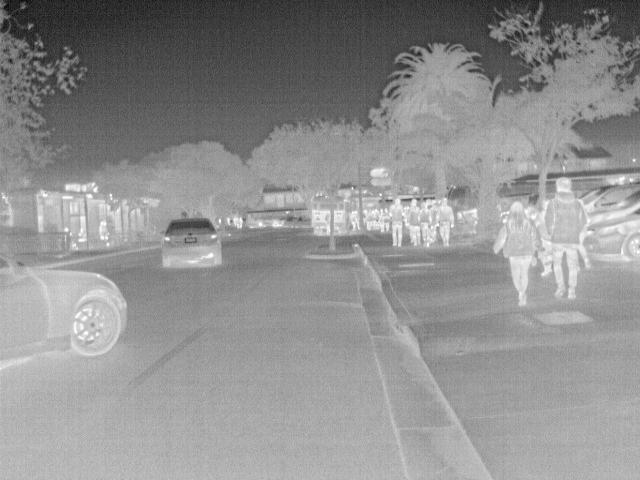car: (0, 253, 129, 373), (157, 218, 227, 270), (585, 207, 639, 264), (579, 180, 639, 216), (454, 207, 478, 234), (254, 214, 285, 228)
person: (543, 175, 587, 301), (492, 198, 543, 306), (435, 196, 456, 246), (388, 195, 405, 247), (408, 196, 424, 246), (417, 200, 432, 244), (96, 218, 113, 246), (62, 226, 79, 252), (380, 206, 393, 234), (348, 208, 360, 233), (74, 226, 87, 242), (237, 214, 245, 230)
